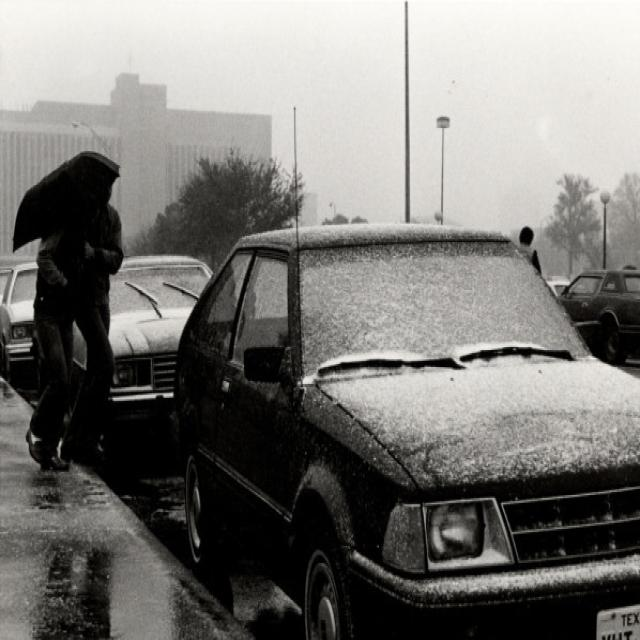Vehicle: (172, 215, 640, 629), (98, 246, 214, 532), (557, 268, 640, 367), (1, 261, 39, 389), (546, 275, 572, 297)
